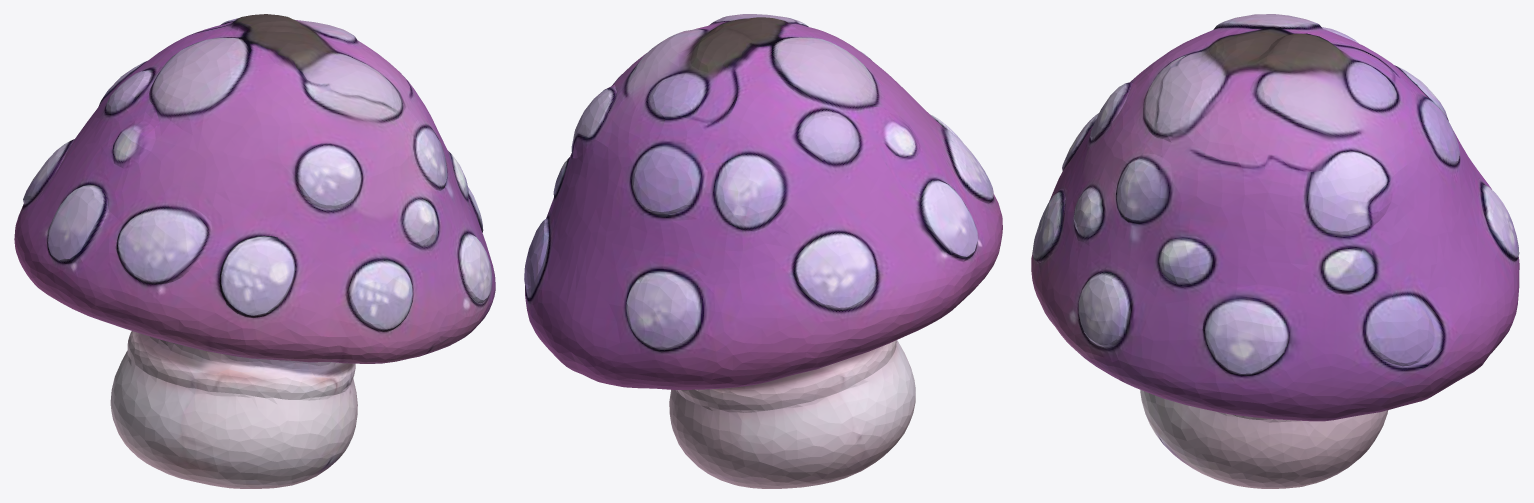
File: giant_mushroom.glb
The picture shows the model from 3 angles, left to right: view 1: azimuth 30°, elevation 25°; view 2: azimuth 150°, elevation 25°; view 3: azimuth 270°, elevation 25°; orthographic projection. The views are drawn at different scales.
Parts seen in each view (by area): view 1: tmppp2fl8ev.ply; view 2: tmppp2fl8ev.ply; view 3: tmppp2fl8ev.ply.
Part boxes in pixels (<box>): tmppp2fl8ev.ply: <box>14,14,495,488</box>; tmppp2fl8ev.ply: <box>524,14,1002,488</box>; tmppp2fl8ev.ply: <box>1031,14,1519,488</box>.
Size of the model in its own units: 1.99 by 1.98 by 1.98.
Materials: 1 (1 with a texture image).
